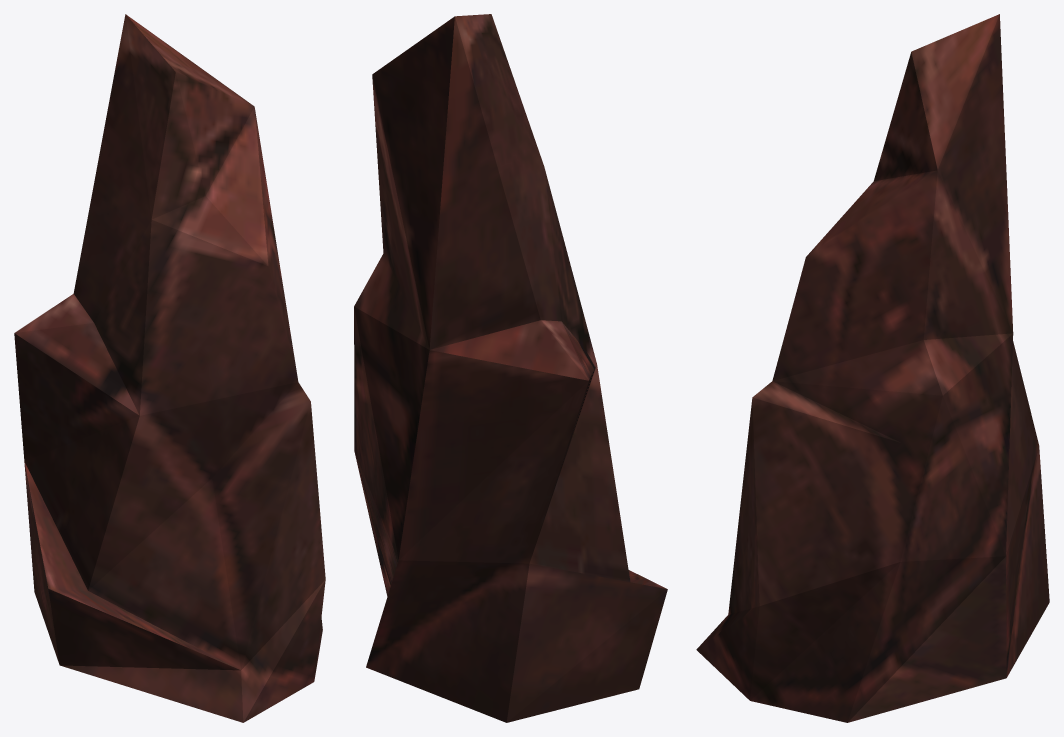
The model's file is stalacmite_tall04.fbx.
3 views of the same model, side by side, from view 1: azimuth 30°, elevation 25°; view 2: azimuth 150°, elevation 25°; view 3: azimuth 270°, elevation 25° (orthographic). The views are drawn at different scales.
Visible parts, largest first — view 1: obj0.011; view 2: obj0.011; view 3: obj0.011.
Boxes of the visible parts, box(x1,y1,x2,y2) form: obj0.011: box(14, 14, 325, 722); obj0.011: box(354, 14, 667, 722); obj0.011: box(696, 14, 1049, 722).
Bounding box in the file's own units: 1.45 × 3.16 × 1.56.
